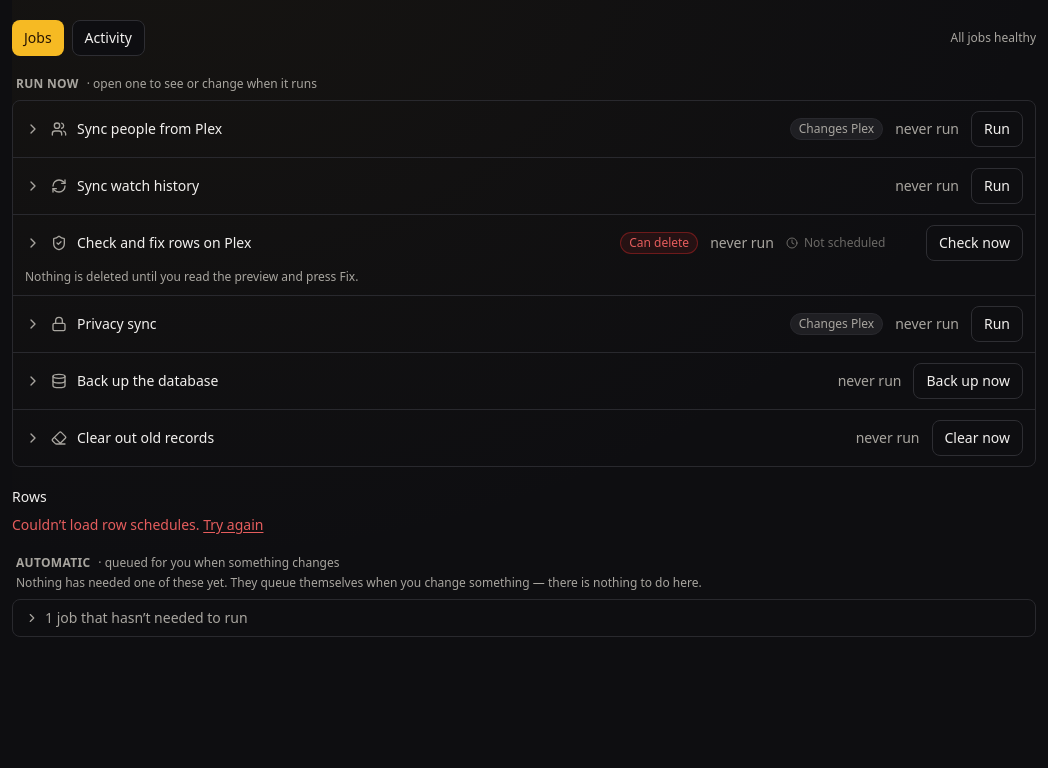
it: JobsPage — sync users and watch history › says users are up to date when the sync changed nothing
Click the button with aria-label "Run: Sync people from Plex" at (997, 129), box [971,111,1023,147]
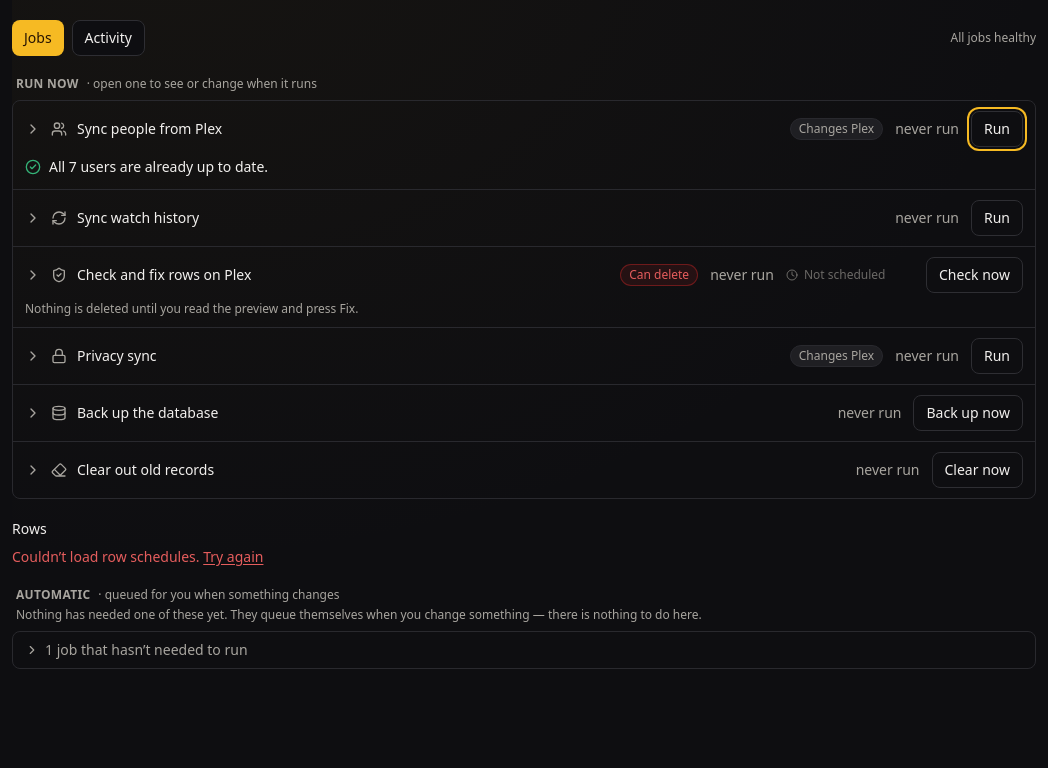
Expected: the text "All 7 users are already up to date." is shown, [25,157,268,176]
